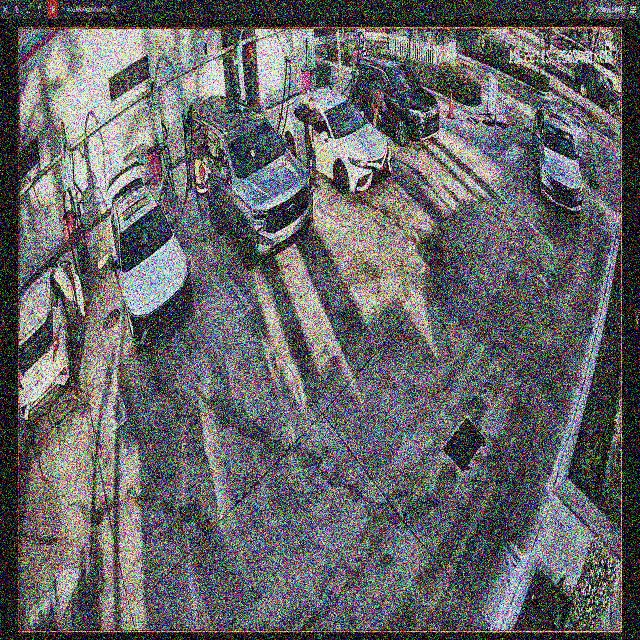Car: (191, 96, 310, 266), (108, 159, 192, 352), (279, 96, 391, 205), (351, 58, 436, 154)
